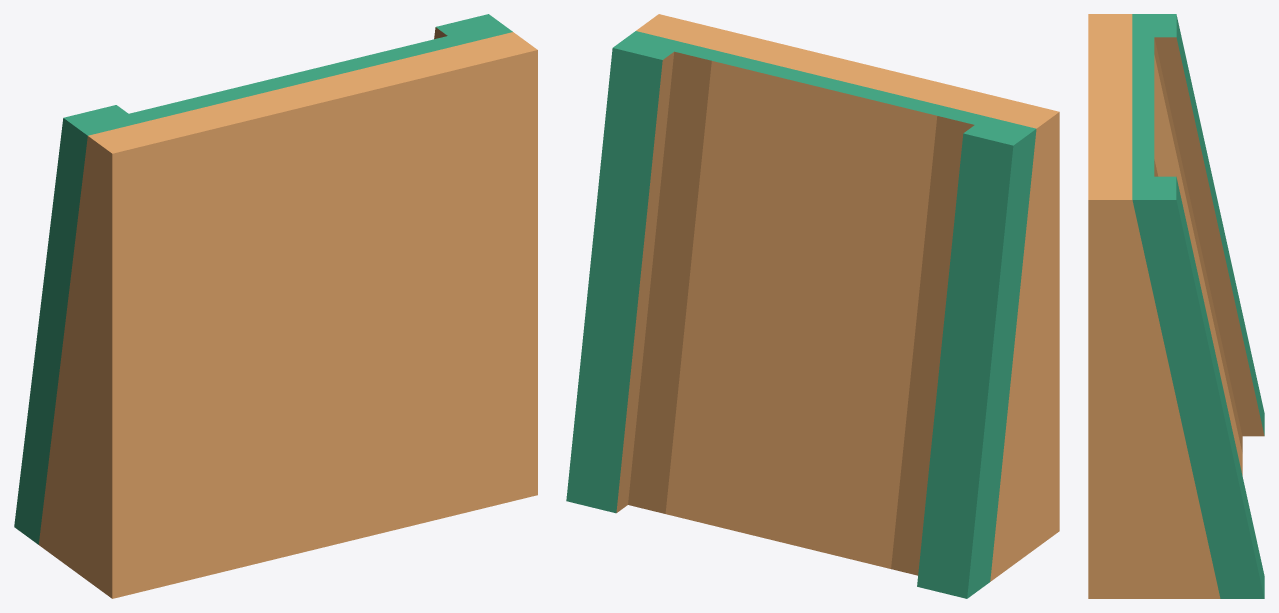
Rendered from tile_straightHill.obj.
3 views of the same model, side by side, from view 1: azimuth 30°, elevation 25°; view 2: azimuth 150°, elevation 25°; view 3: azimuth 270°, elevation 25° (orthographic). The views are drawn at different scales.
Visible parts, largest first — view 1: tile_straightHill; view 2: tile_straightHill; view 3: tile_straightHill.
Boxes of the visible parts, left/top/right/bottom form: tile_straightHill: left=14, top=14, right=537, bottom=598; tile_straightHill: left=566, top=14, right=1059, bottom=598; tile_straightHill: left=1088, top=14, right=1264, bottom=598.
Bounding box in the file's own units: 1 × 1 × 0.4.
